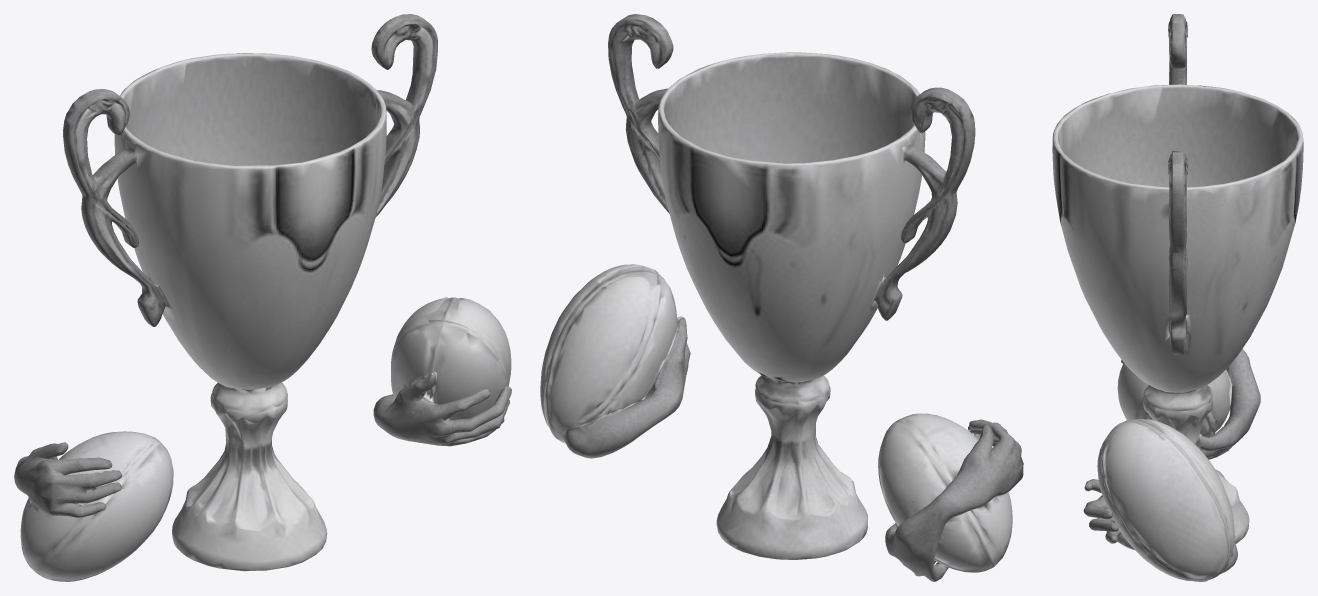
File: f-liga.glb
3 renders of one model, left to right at view 1: azimuth 30°, elevation 25°; view 2: azimuth 150°, elevation 25°; view 3: azimuth 270°, elevation 25°, orthographic. The views are drawn at different scales.
Bounding box in the file's own units: 1.9 × 1.89 × 0.9656.
1 material, 1 textured.
